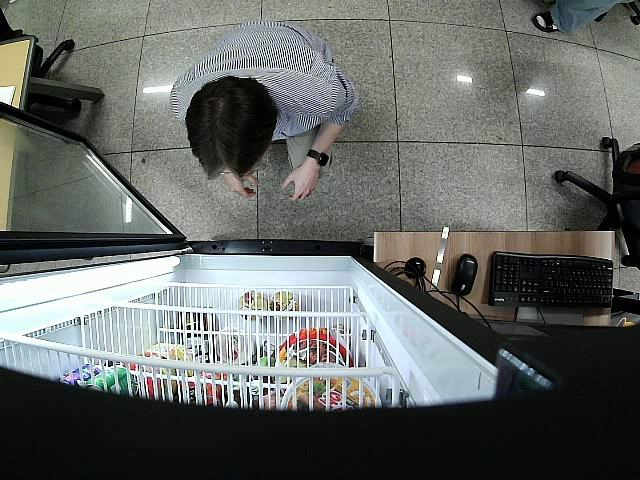00_hand: (279, 165, 320, 202), (226, 172, 260, 197)
